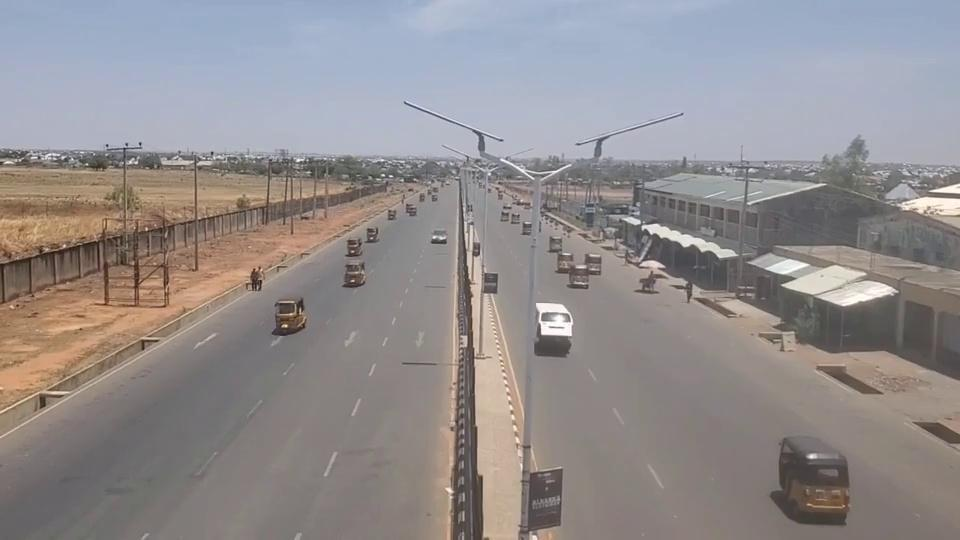keke: (777, 434, 850, 521)
